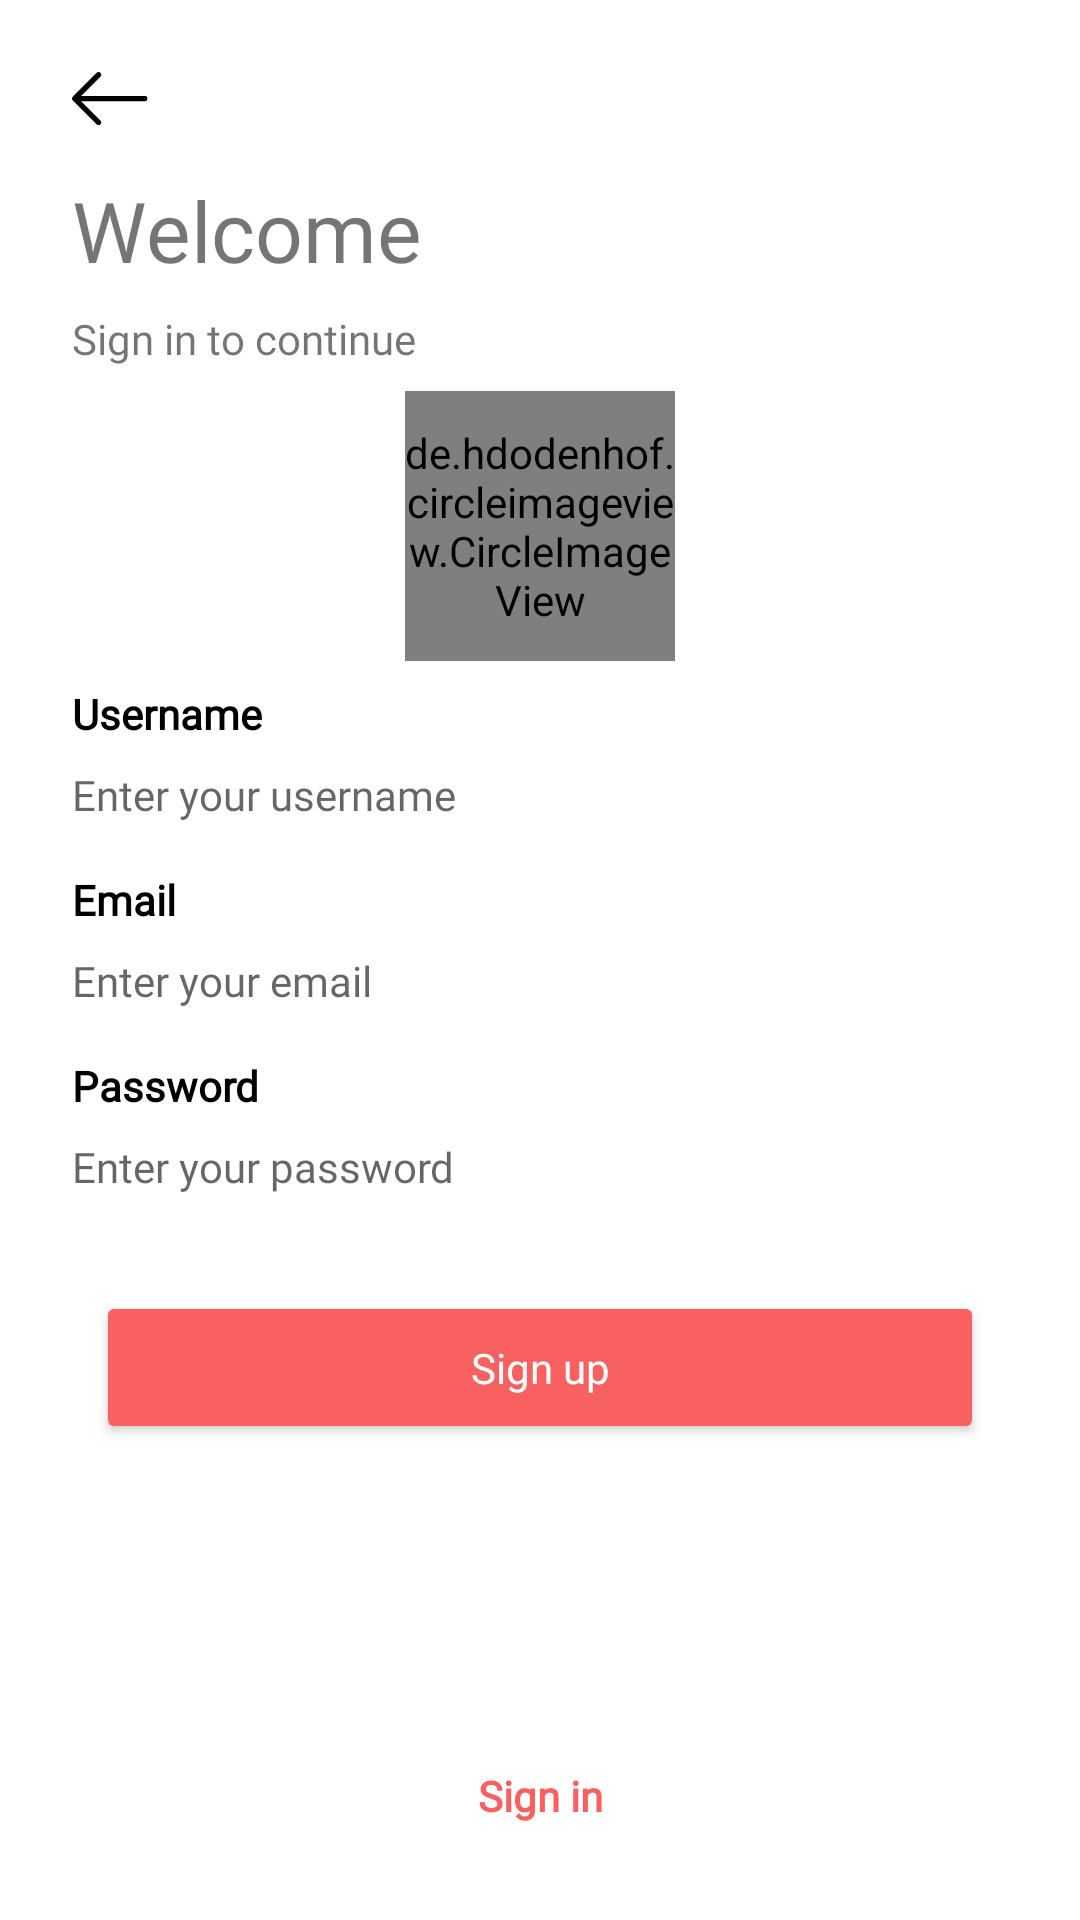

Where icons sit on this 1080*1920 app screen, as (x1, y1, x2, y2):
back arrow: (72, 72, 148, 125)
